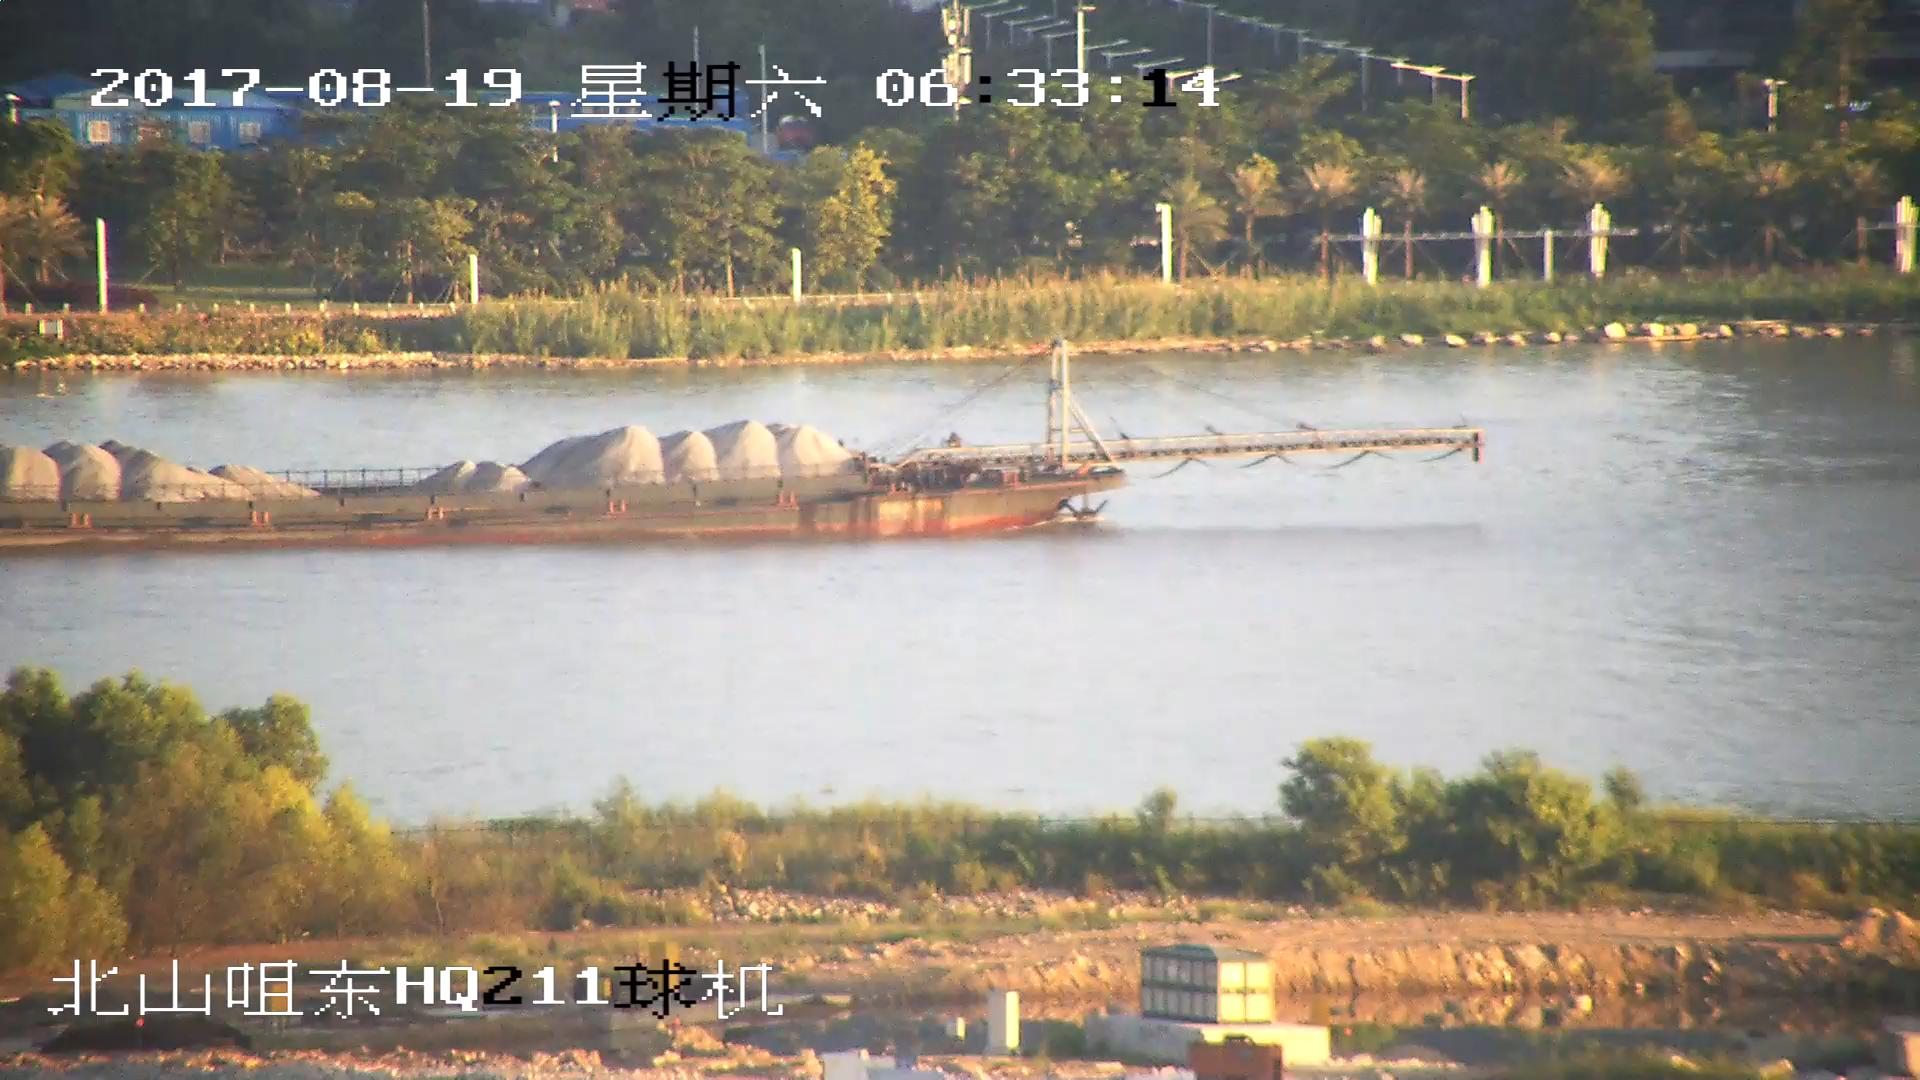ore carrier: (1, 339, 1486, 557)
